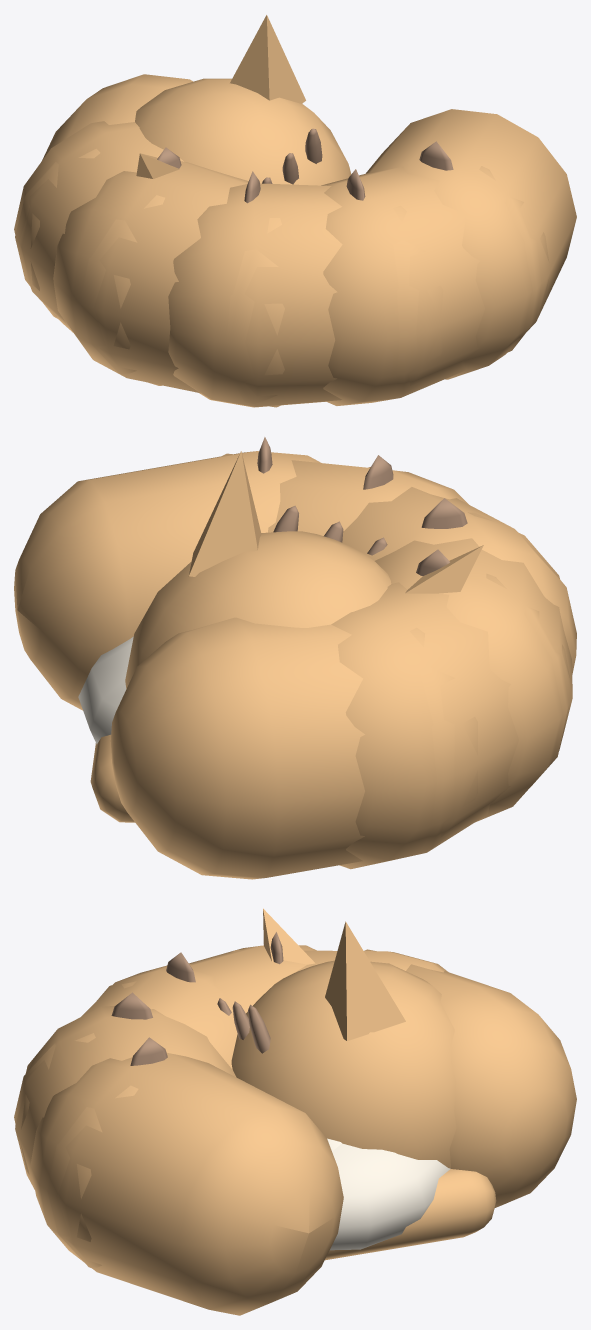
File: companion-animals-and-pet-home-cat-sleeping-42533d07__20557.glb
3 renders of one model, top to bottom at view 1: azimuth 30°, elevation 25°; view 2: azimuth 150°, elevation 25°; view 3: azimuth 270°, elevation 25°, orthographic. The views are drawn at different scales.
Parts seen in each view (by area): view 1: cat-sleeping; view 2: cat-sleeping; view 3: cat-sleeping.
Boxes of the visible parts, x1,y1,x2,y2 form: cat-sleeping: (14,15,576,407); cat-sleeping: (14,437,576,879); cat-sleeping: (14,908,576,1315).
Bounding box in the file's own units: 0.3581 × 0.2248 × 0.3581.
